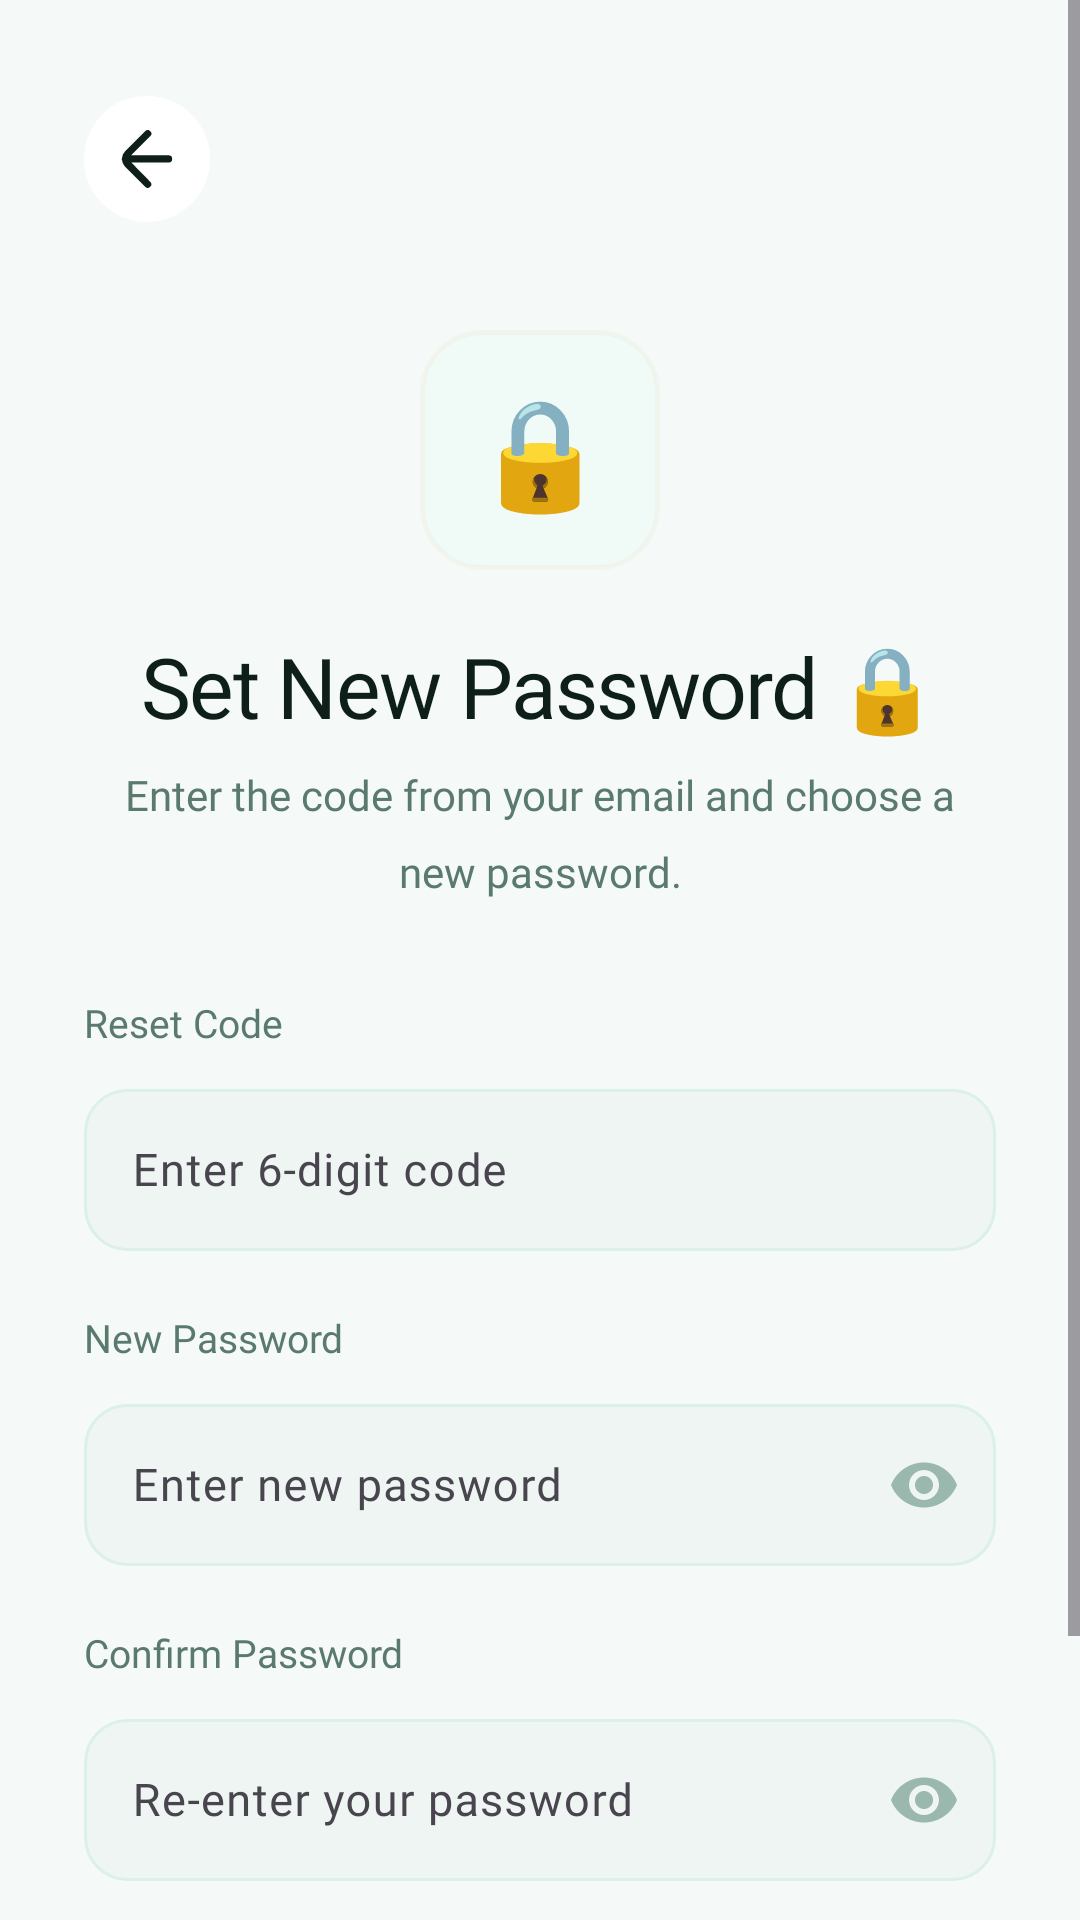

Icons on this 1080 x 1920 Android screen, each with the point to tap as point (x, y):
Back: point (147, 159)
